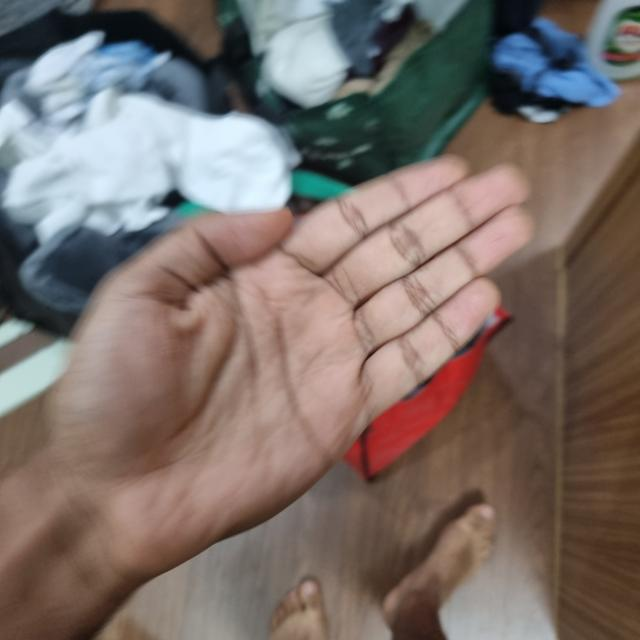Paper: (47, 158, 533, 560)
